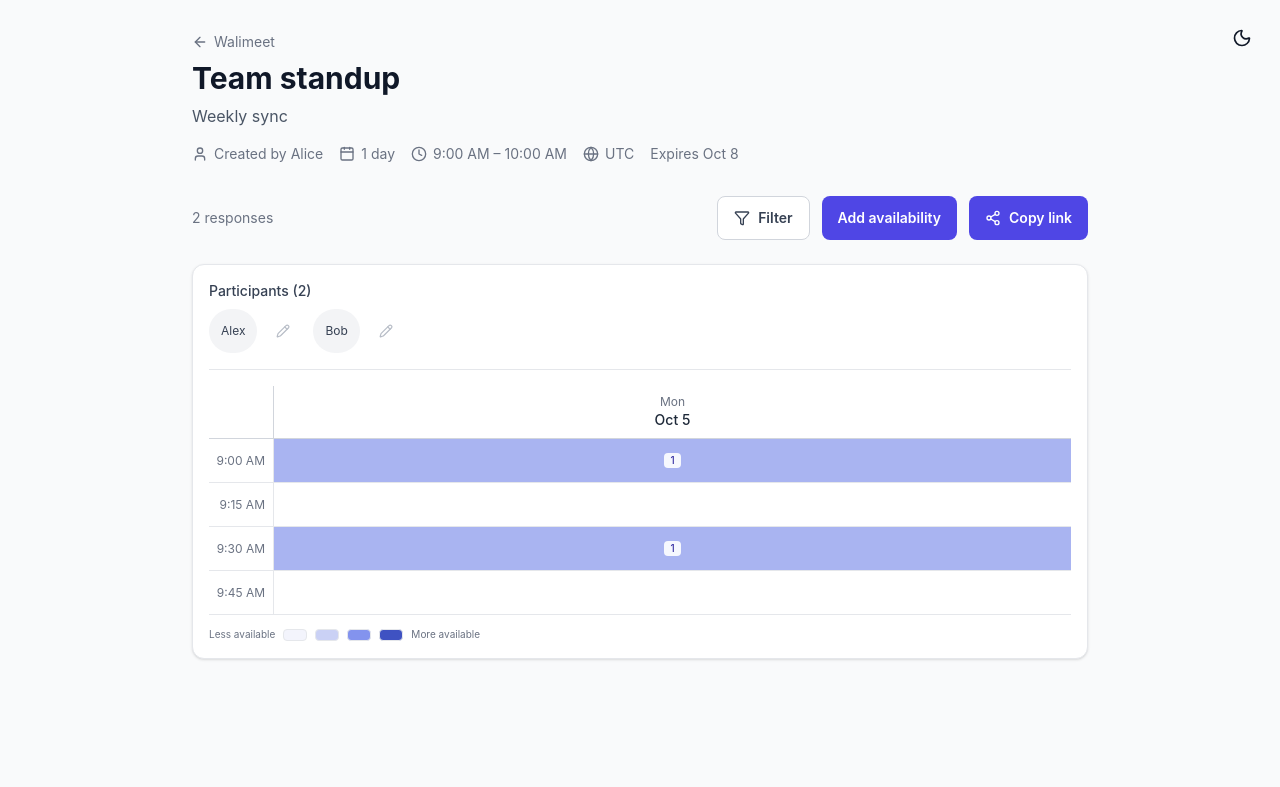
edit existing response via pencil › confirms before switching to another response while unsaved changes exist
Check: the heading "Team standup" is shown, box [192,60,400,96]
Click the button "Add availability".
click(889, 218)  # box [822,196,957,240]
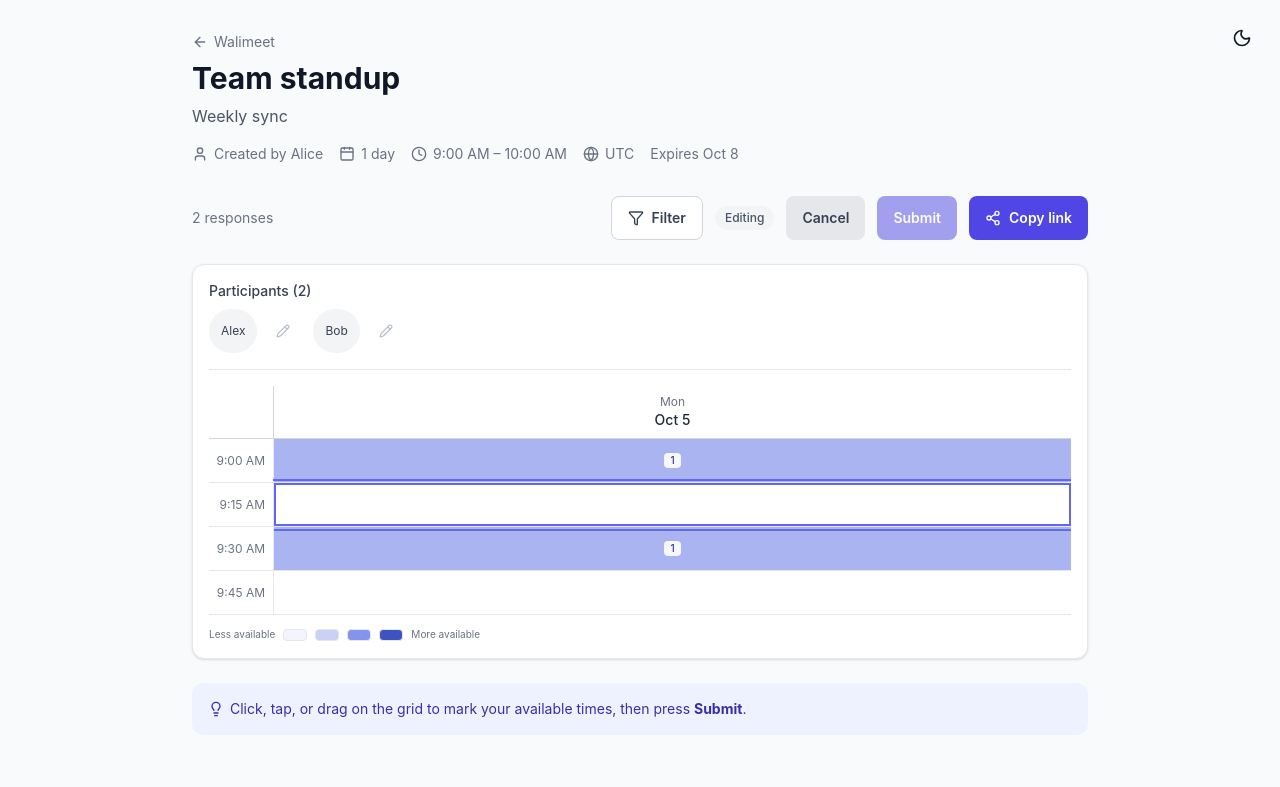
Type keys " "
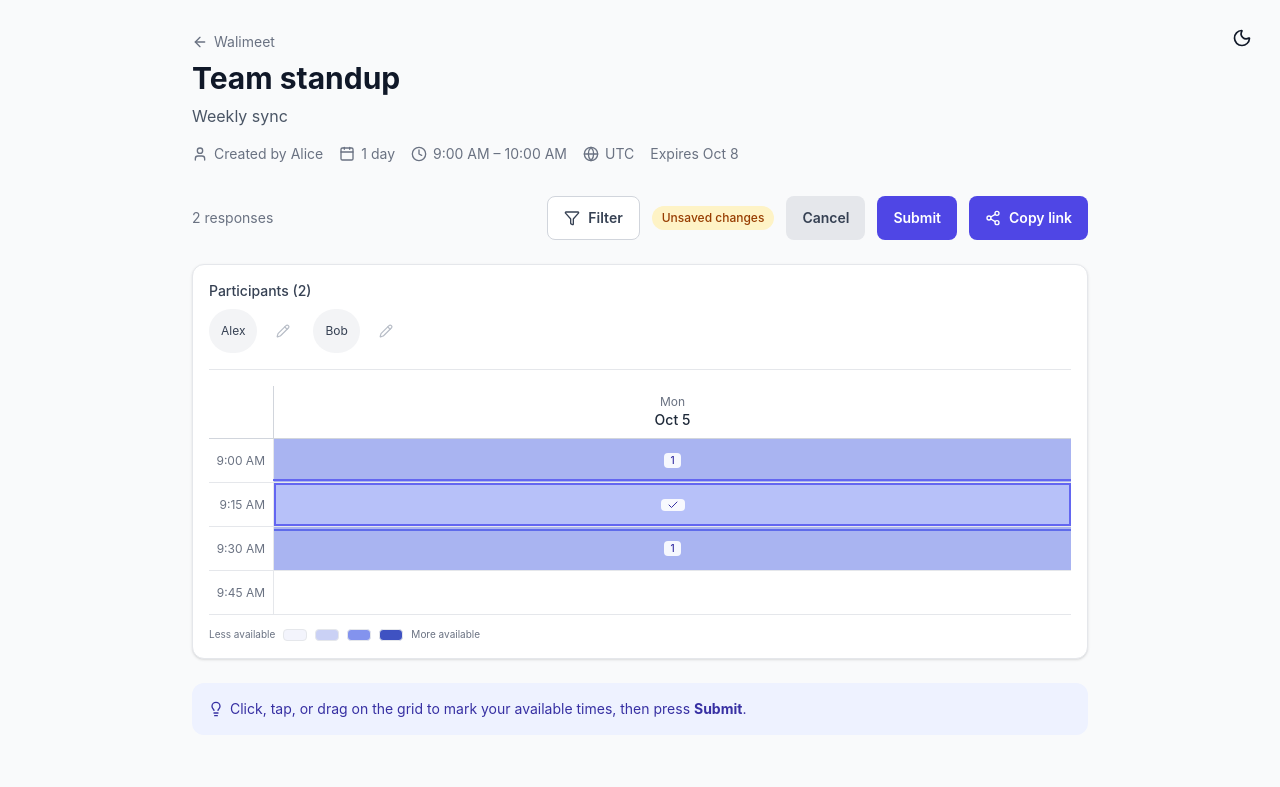
Click the button named "Edit Alex".
click(284, 331)  # box [262,309,306,353]
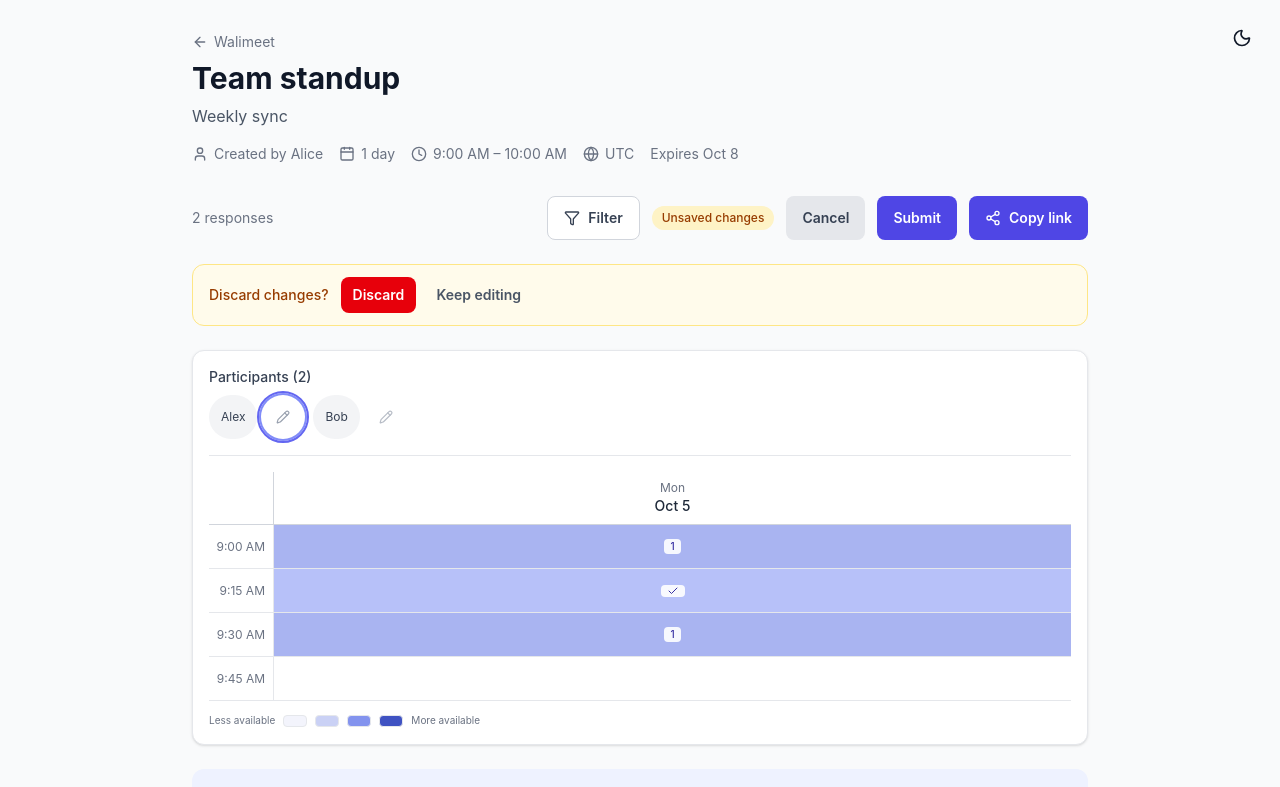
Check: the text "Discard changes?" is shown, box [209,285,329,305]
Click the button "Discard".
click(378, 295)  # box [341,277,416,313]
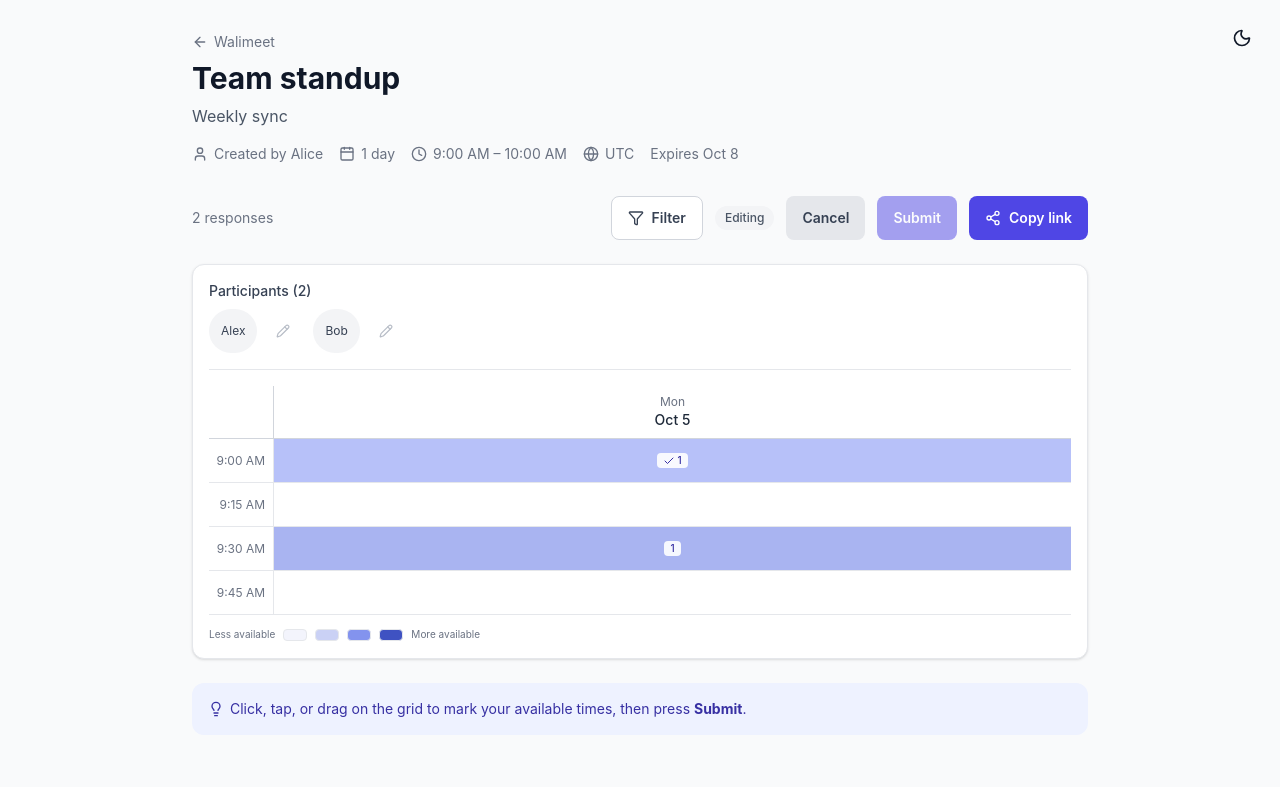
Check: the text "Discard changes?" is gone
